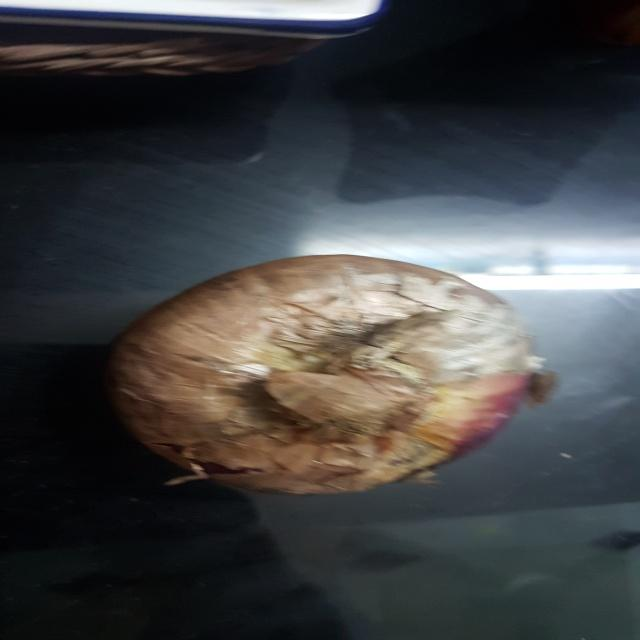onion: (113, 246, 555, 513)
